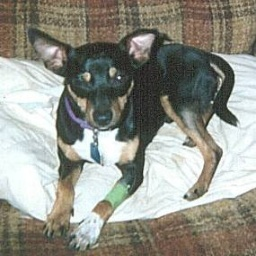dog: (29, 20, 234, 250)
